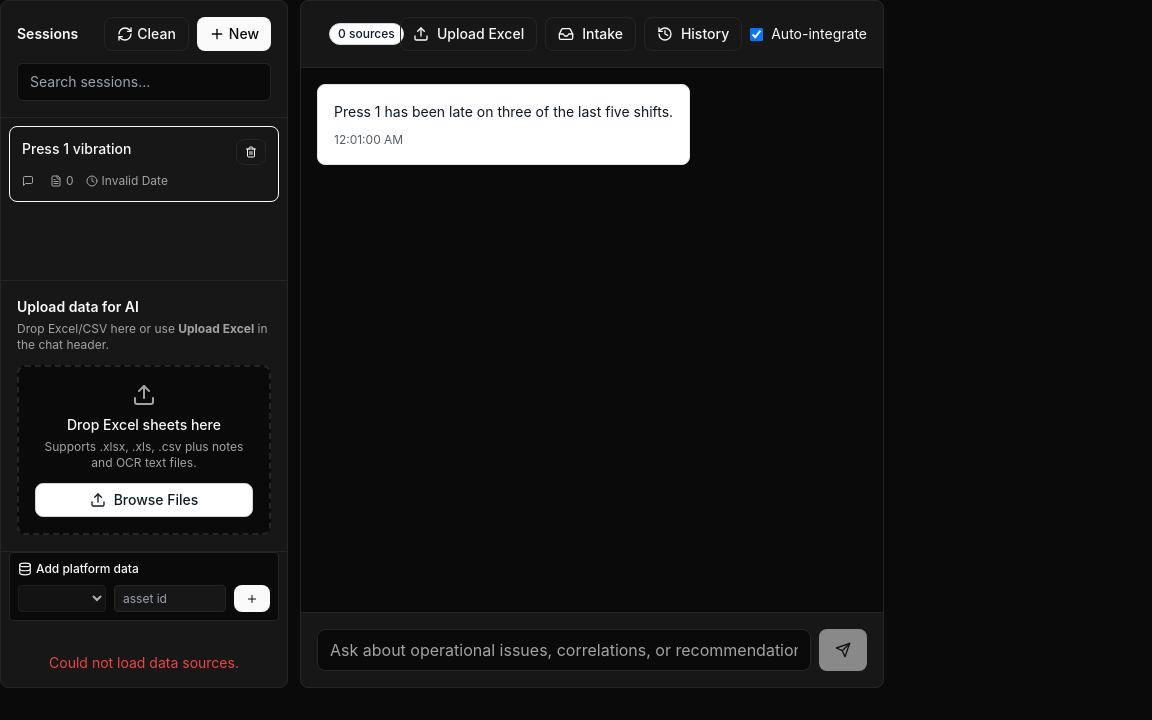
properties this pane already held, held › puts a failed chat turn in the transcript rather than the console
The width and height of the screenshot is (1152, 720).
Replace the text in the field with placeholder "Ask" with "why was press 1 late?" at (564, 650), box top-left (317, 629), bottom-right (811, 671)
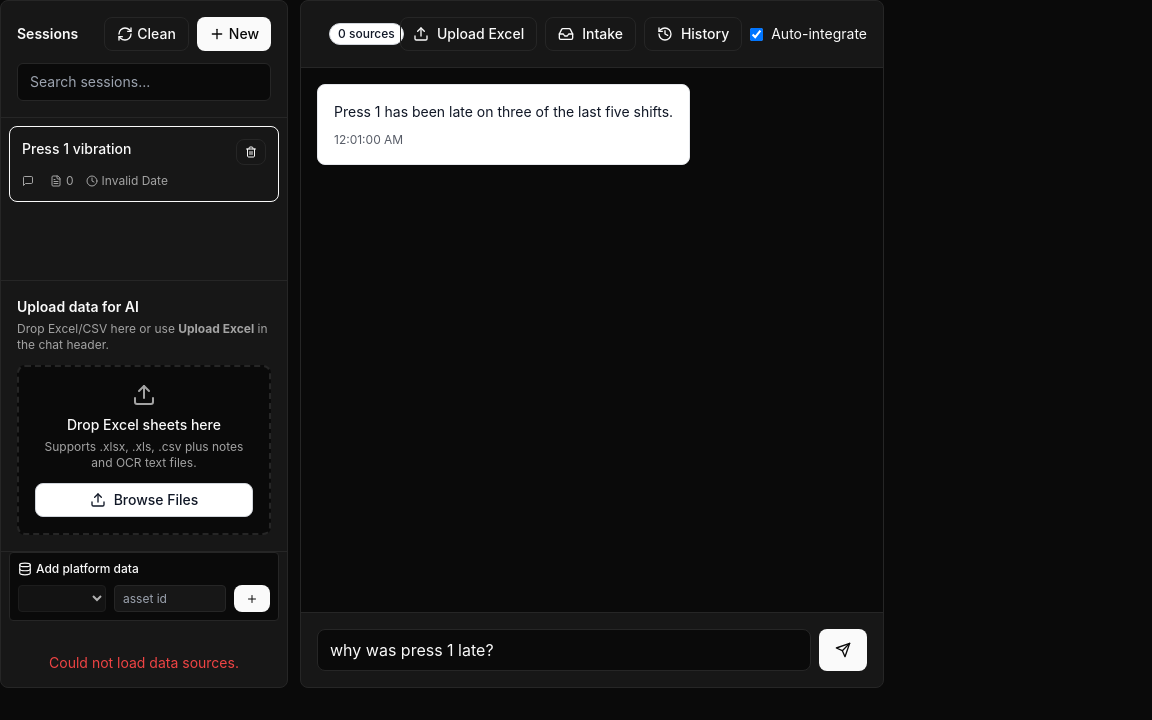
Click the button with test id "correlation-send".
click(843, 650)  # box top-left (819, 629), bottom-right (867, 671)
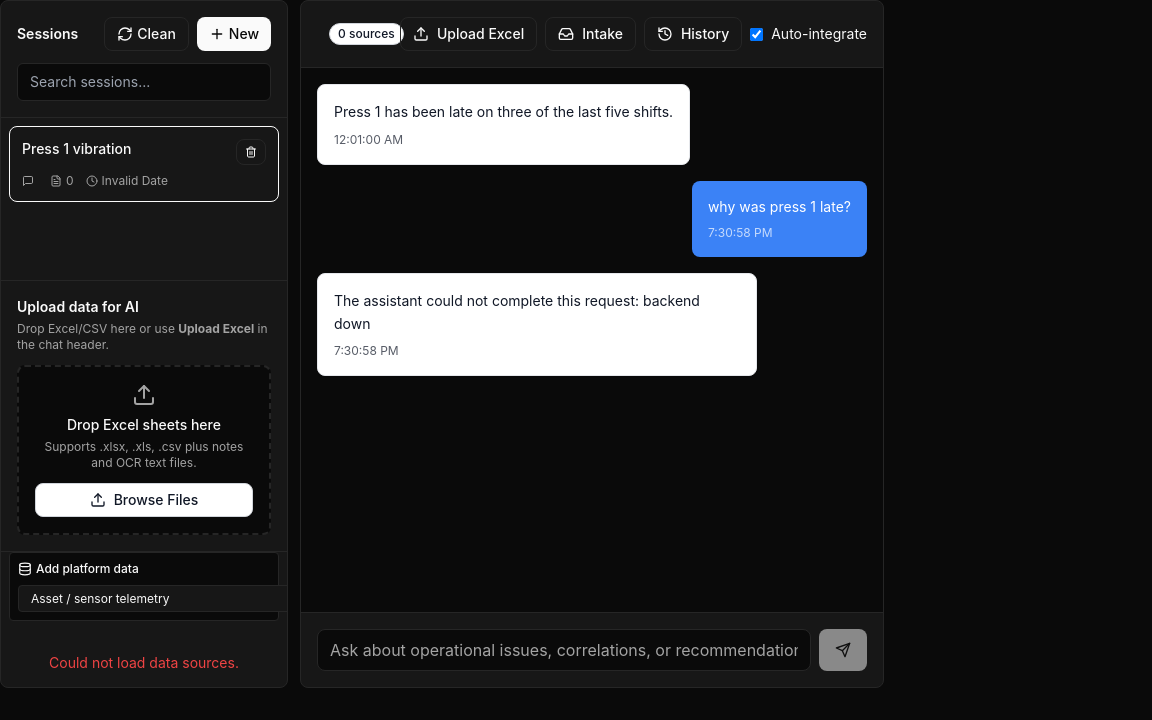
Now the text "The assistant could not complete this request: backend down" is shown, box top-left (334, 290), bottom-right (740, 335)
